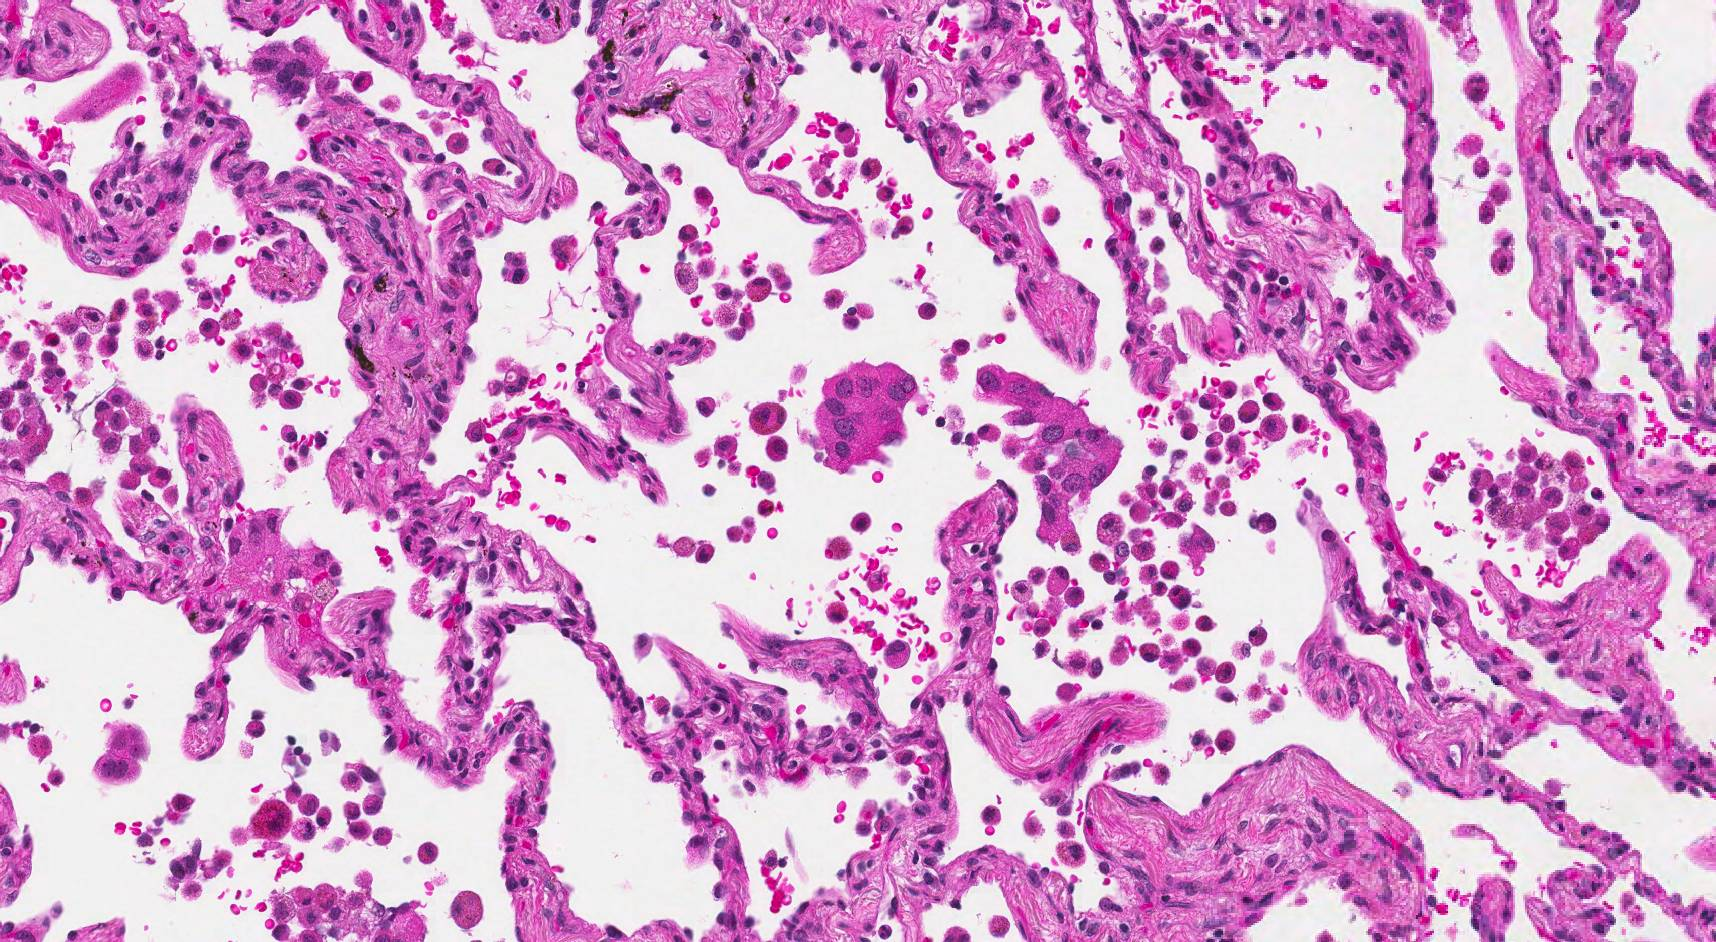stas: (975, 361, 1119, 551), (814, 361, 920, 474), (247, 36, 329, 102)
